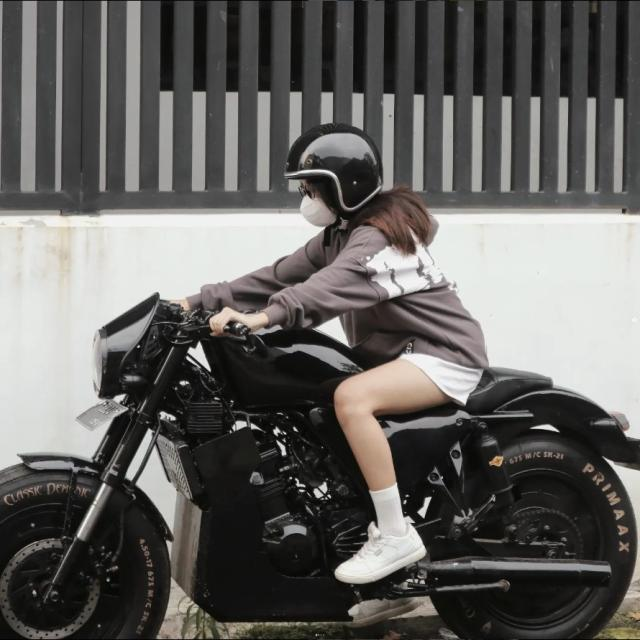helmet: (279, 118, 388, 240)
